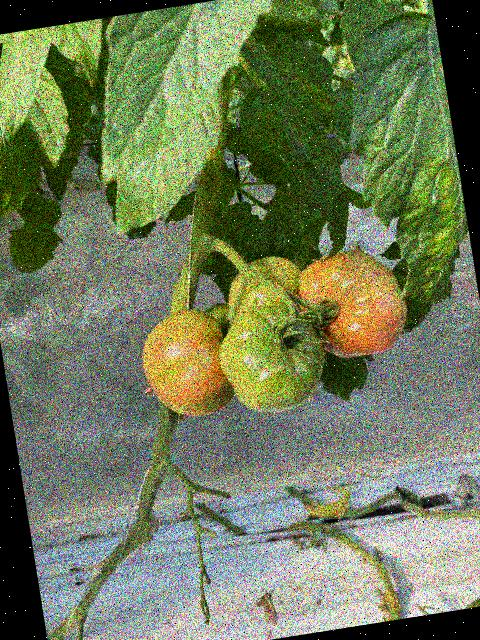b_green: (211, 295, 333, 419), (223, 251, 308, 322), (204, 301, 236, 342)
b_half_ripened: (291, 242, 414, 366), (135, 303, 238, 424)
